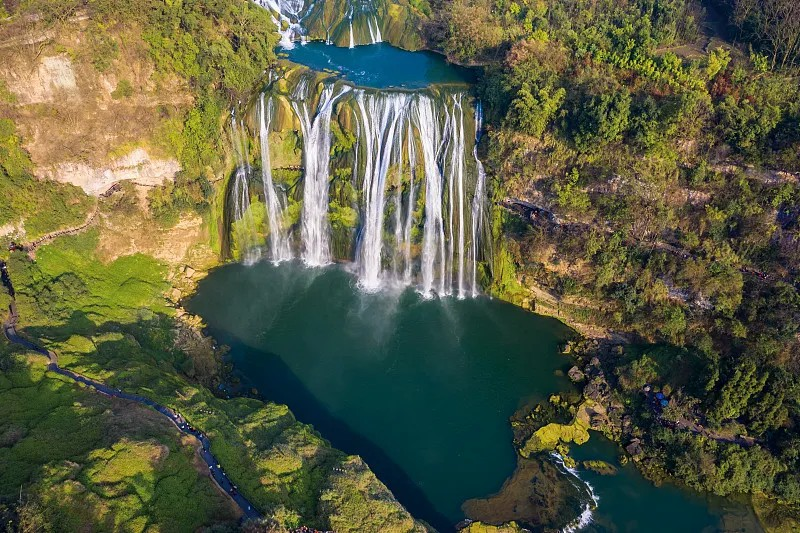Huangguoshu: (228, 76, 486, 299)
